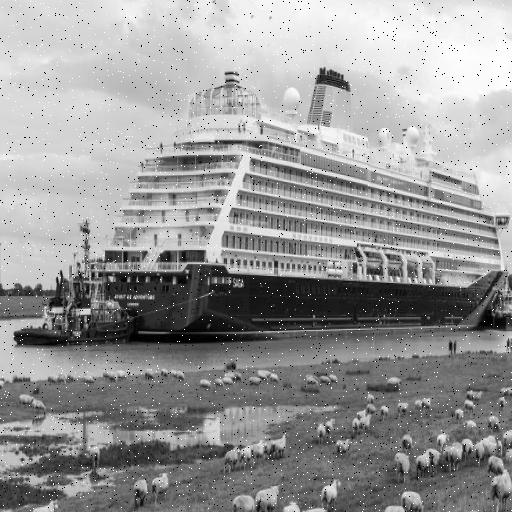cruises: (89, 65, 511, 349)
